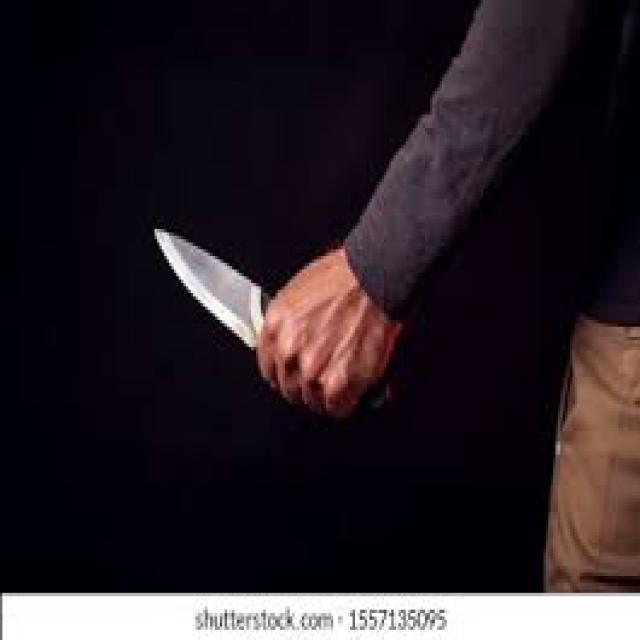faca: (147, 208, 401, 444)
